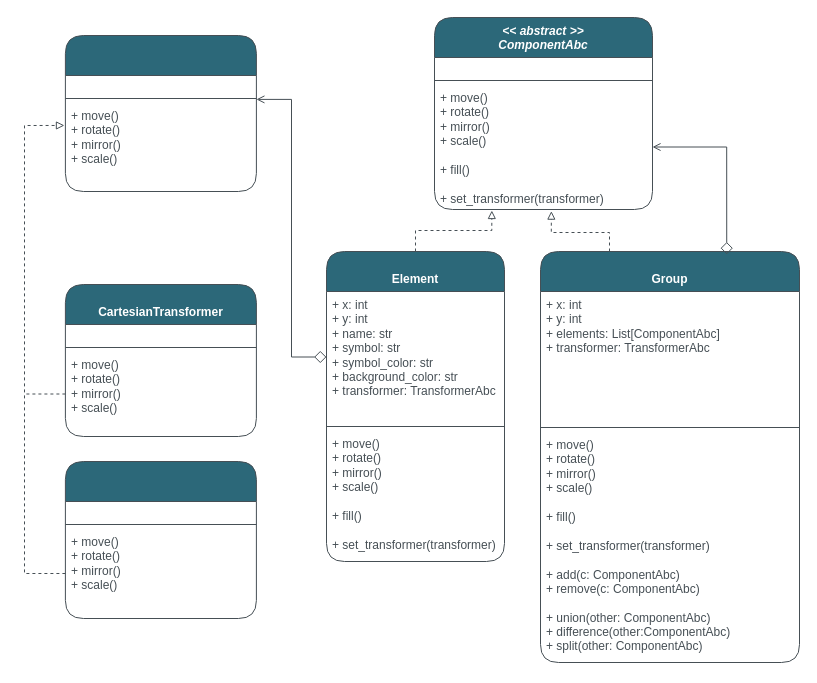
The diagram is 817 pixels wide and 683 high, and some of its shapes have lost their labels. Each missing label, with the box of its shape:
<< abstract >> TransformertAbc: (64, 34, 256, 192)
PolarTransformer: (64, 460, 256, 618)
